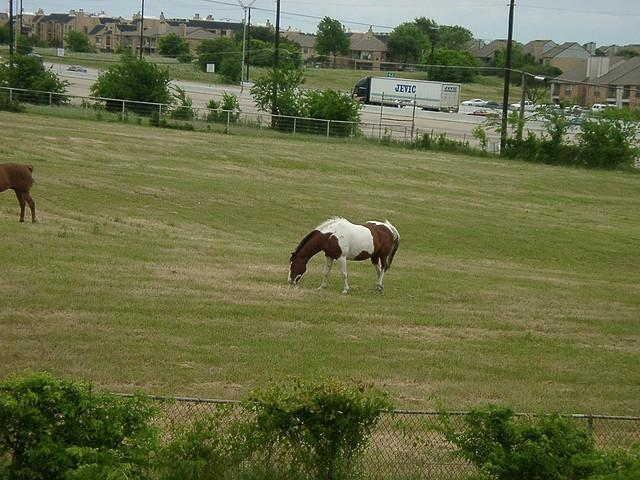car: (510, 101, 533, 111), (468, 109, 498, 116), (461, 99, 488, 106), (66, 64, 88, 72), (564, 105, 582, 114), (592, 104, 606, 114), (484, 101, 500, 109), (586, 118, 601, 126), (570, 118, 582, 126), (548, 101, 560, 109)
truck: (349, 76, 462, 112), (511, 101, 541, 112)
